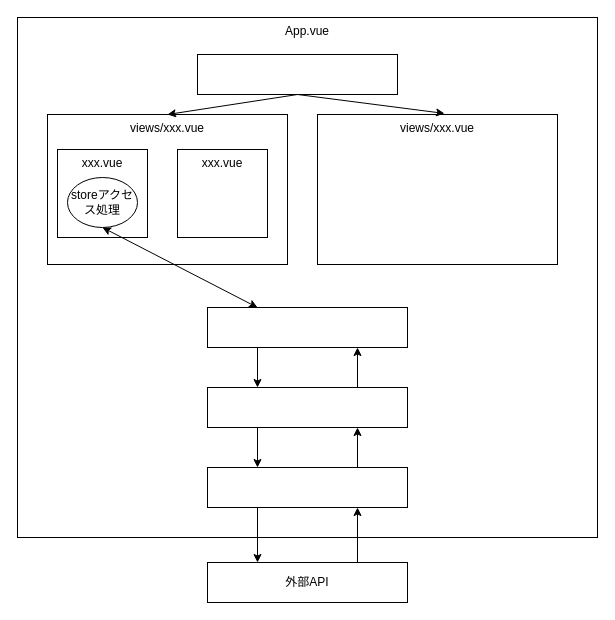
The diagram is 615 pixels wide and 620 high, and some of its shapes have lost their labels. Here are the shapes that lost their labels. From the top down, the centre of each, then its label:
At [297,74]: "router/index.js".
At [307,327]: "stores/xxx.js".
At [307,407]: "composables/useCart.js".
At [307,487]: "api/client.js".
